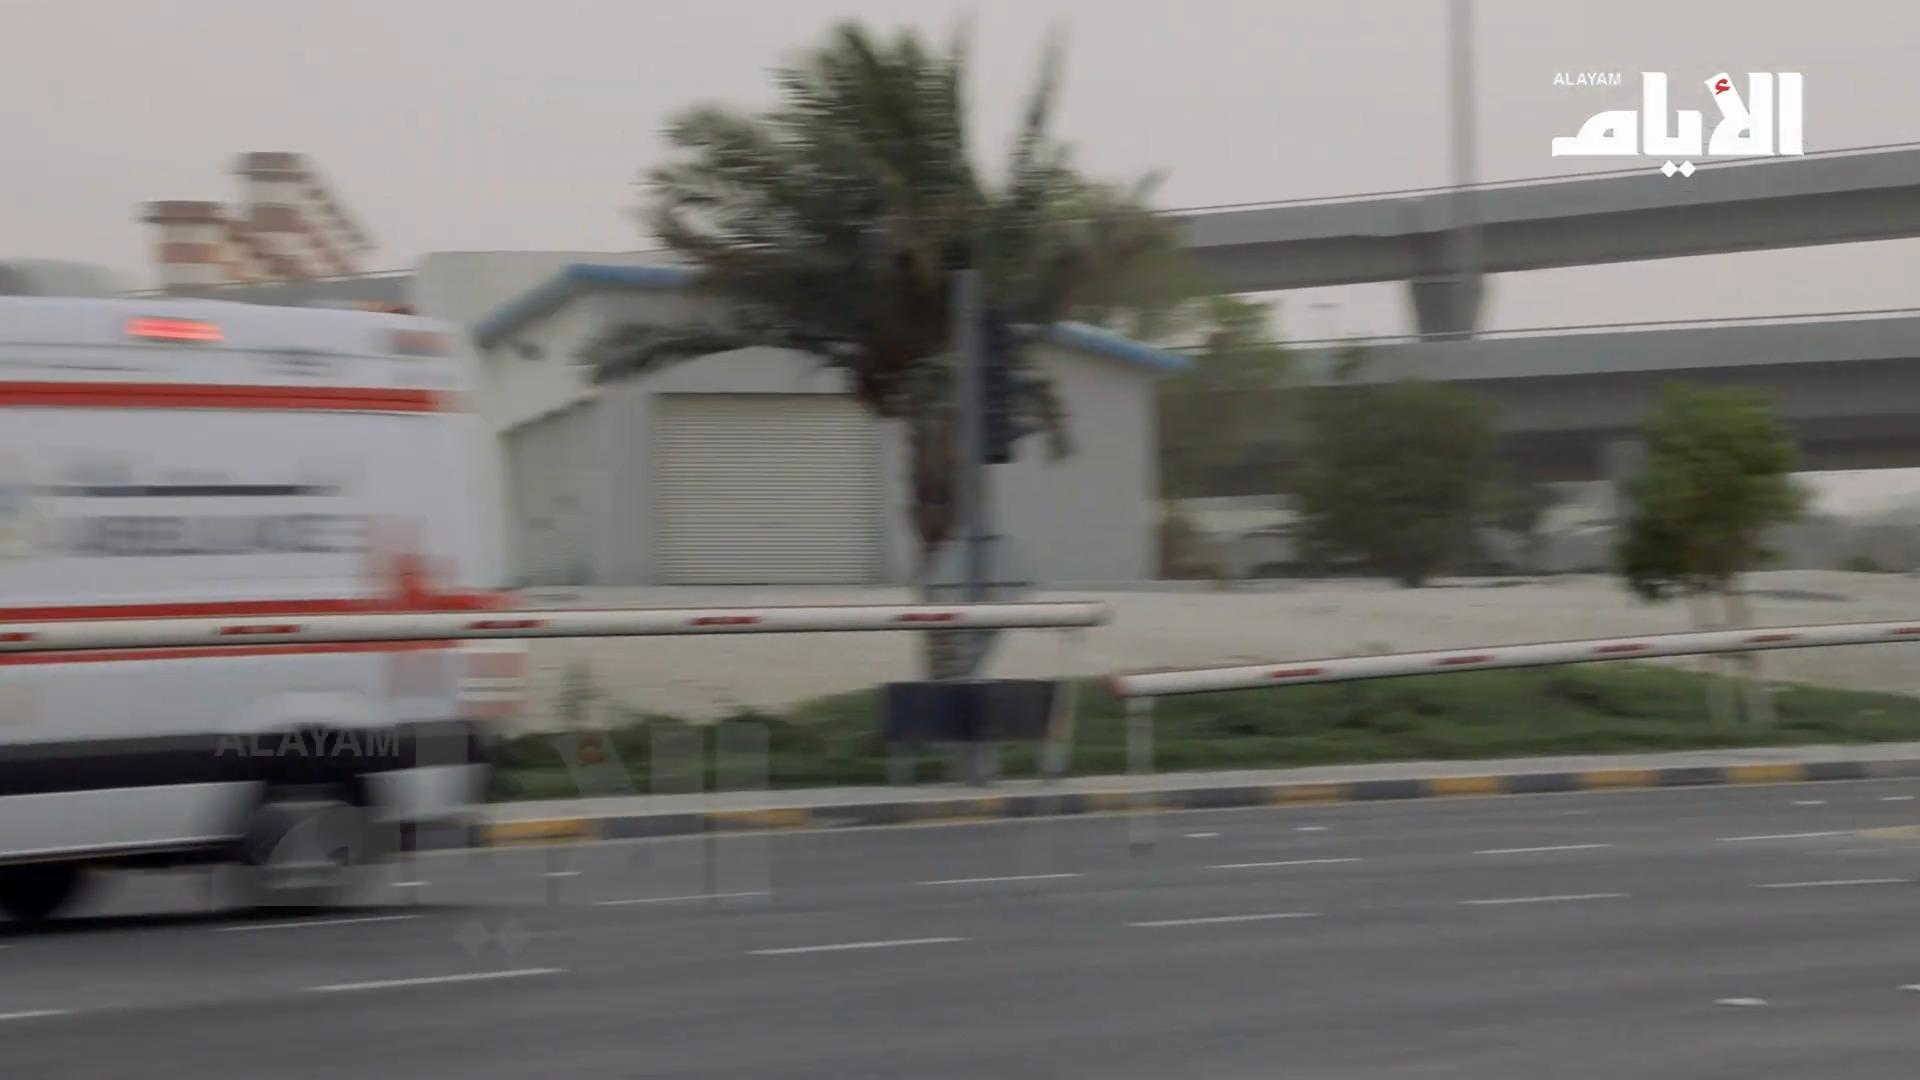ambulance_on: (0, 286, 496, 924)
